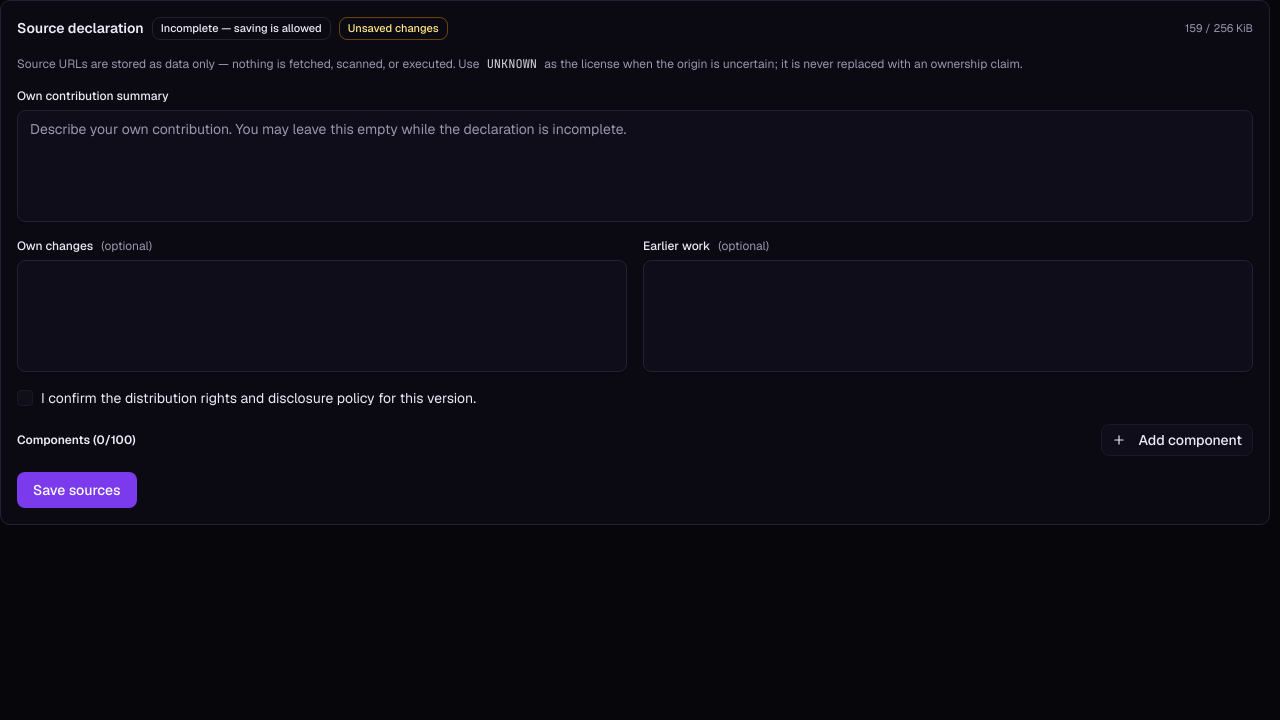
Scenario: SourceDeclarationEditor › saves against the revision the edits were based on and shows the stale alert on 409
The width and height of the screenshot is (1280, 720).
Expected: the button "Add component" is shown, [1101,424,1253,456]
Step 1. Type "Original wording" into the text box labelled "Own contribution summary" → (635, 166), box [17,110,1253,222]
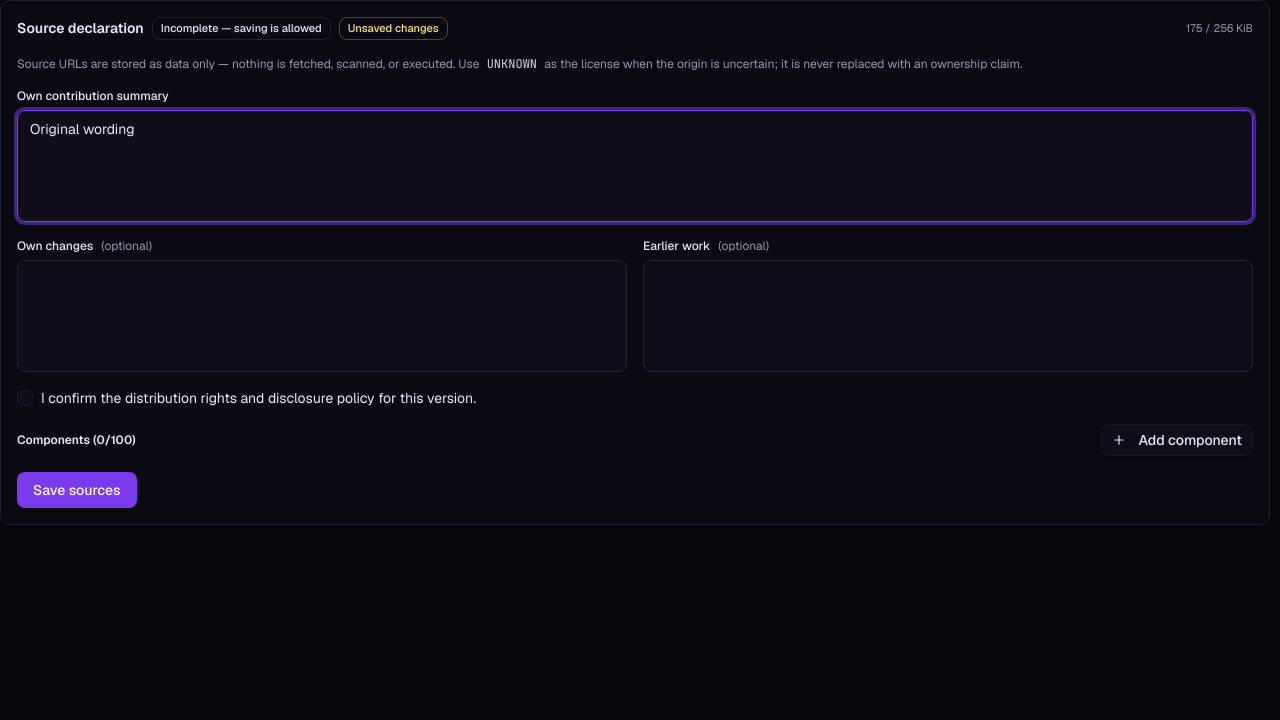
Step 2. Click the button "Save sources" → (77, 490), box [17,472,136,508]
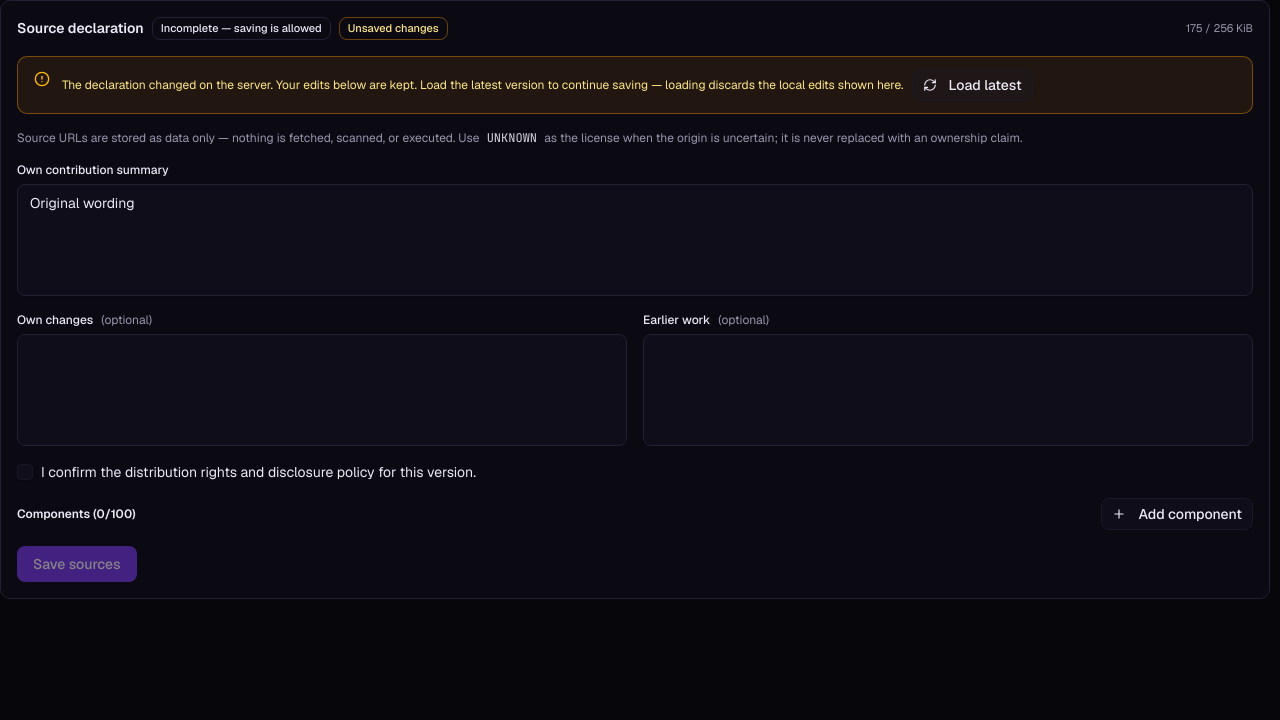
Result: the text "declaration changed on the server" is shown at [62,76,904,92]
